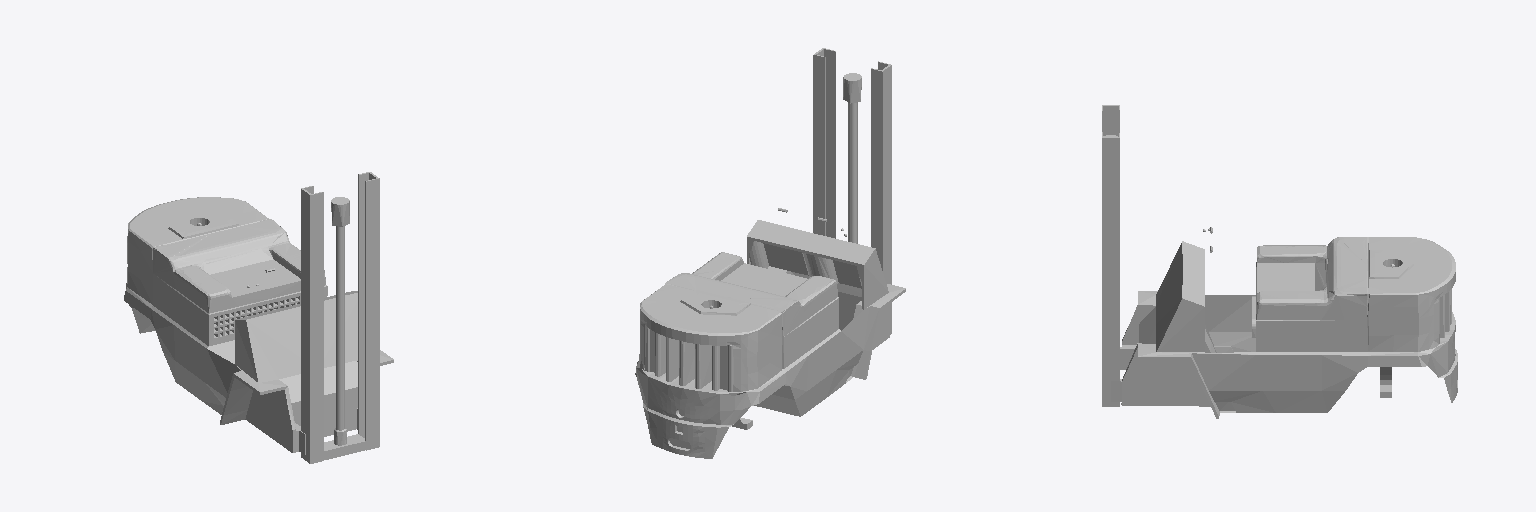
File: grua2.obj
The picture shows the model from 3 angles: view 1: azimuth 30°, elevation 25°; view 2: azimuth 150°, elevation 25°; view 3: azimuth 270°, elevation 25°; orthographic projection.
Visible parts, largest first — view 1: ELT_BODY, ELT_ELV2; view 2: ELT_BODY, ELT_ELV2; view 3: ELT_BODY, ELT_ELV2.
Boxes of the visible parts, <box> form: ELT_BODY: <box>124,197,393,454</box>; ELT_ELV2: <box>301,172,379,463</box>; ELT_BODY: <box>635,220,905,458</box>; ELT_ELV2: <box>813,48,891,334</box>; ELT_BODY: <box>1111,237,1457,418</box>; ELT_ELV2: <box>1102,105,1119,406</box>.
Bounding box in the file's own units: 2.22 × 4.26 × 5.12.